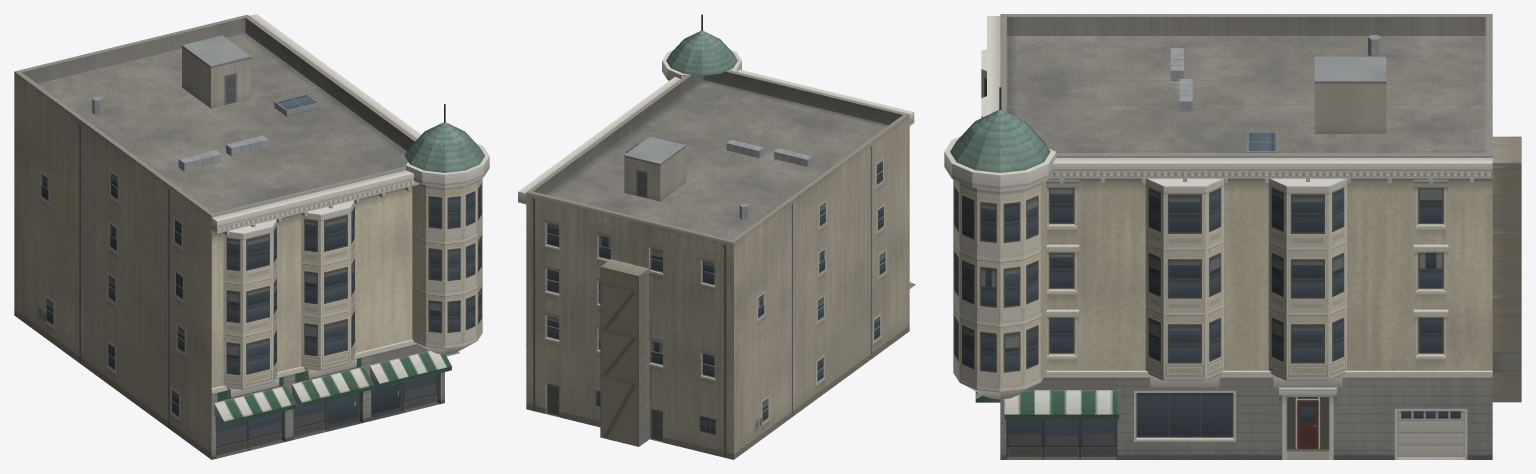
The model's file is sf_victorian_d.glb.
The picture shows the model from 3 angles, left to right: view 1: azimuth 30°, elevation 25°; view 2: azimuth 150°, elevation 25°; view 3: azimuth 270°, elevation 25°; orthographic projection. The views are drawn at different scales.
Visible parts, largest first — view 1: sf_victorian_d; view 2: sf_victorian_d; view 3: sf_victorian_d.
Part boxes in pixels (bbox=[...]): sf_victorian_d: bbox=[14, 14, 489, 459]; sf_victorian_d: bbox=[518, 14, 915, 459]; sf_victorian_d: bbox=[944, 14, 1521, 459].
Bounding box in the file's own units: 17.5 × 18.4 × 25.8.
1 material, 1 textured.
